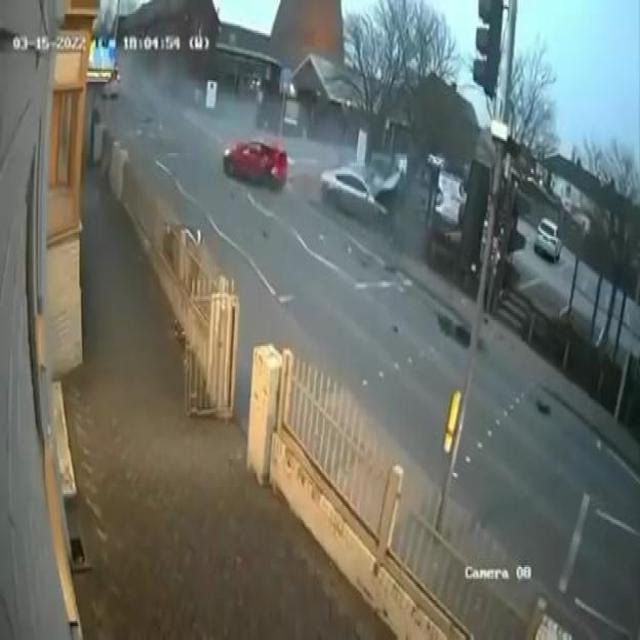accident: (315, 149, 412, 244), (217, 128, 297, 203)
